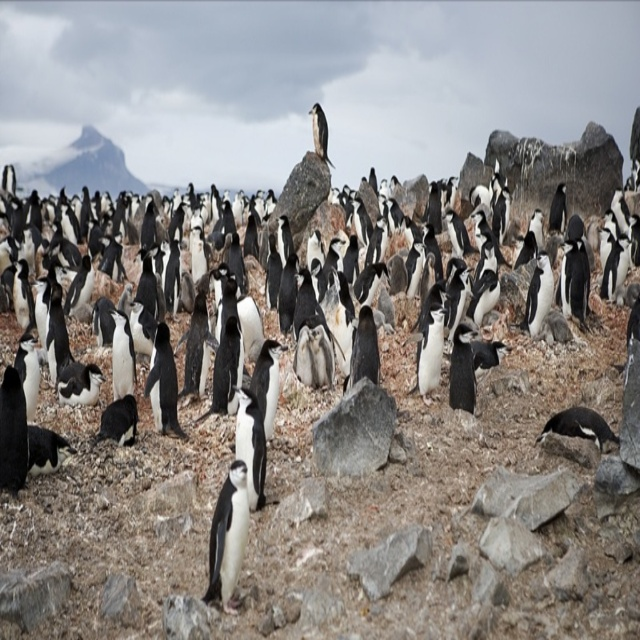Penguin: (201, 458, 249, 618), (206, 253, 246, 365), (234, 379, 266, 496), (253, 344, 290, 442), (558, 232, 594, 329), (38, 288, 75, 380), (466, 268, 497, 366), (417, 281, 447, 377), (150, 315, 178, 416), (322, 268, 350, 362), (232, 288, 266, 364), (14, 333, 43, 422), (522, 246, 551, 335), (105, 317, 134, 398), (276, 249, 298, 346), (449, 326, 474, 408), (597, 227, 623, 304), (350, 315, 378, 384), (68, 359, 104, 412), (446, 205, 474, 271), (210, 340, 239, 402), (445, 265, 467, 344), (310, 104, 333, 176), (295, 268, 322, 326), (190, 314, 209, 395), (35, 279, 54, 355), (7, 261, 30, 322), (105, 398, 135, 442), (67, 253, 90, 308), (479, 213, 504, 263), (166, 241, 181, 318), (522, 210, 545, 258), (192, 232, 208, 297), (61, 203, 82, 252), (366, 218, 387, 267), (314, 329, 333, 383), (491, 189, 510, 241), (103, 241, 122, 290), (426, 182, 441, 241), (299, 336, 316, 387), (478, 235, 495, 286), (407, 243, 421, 293), (105, 205, 122, 232)
